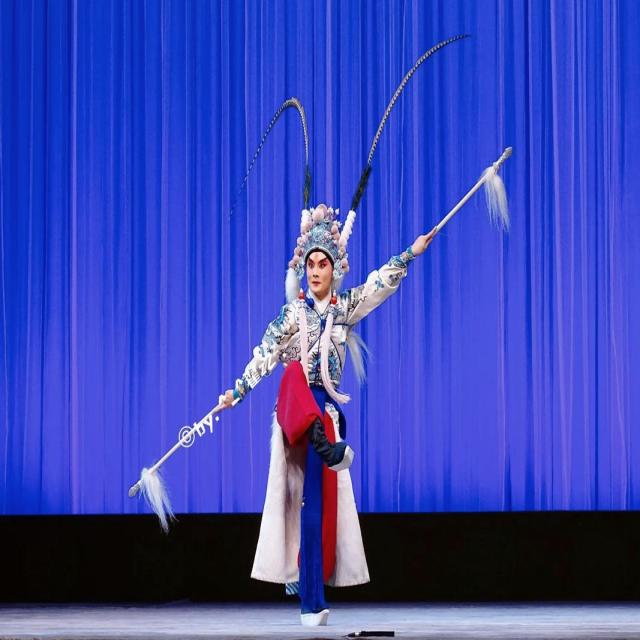Reeves-s Pheasant: (367, 27, 474, 167), (227, 89, 311, 217)
